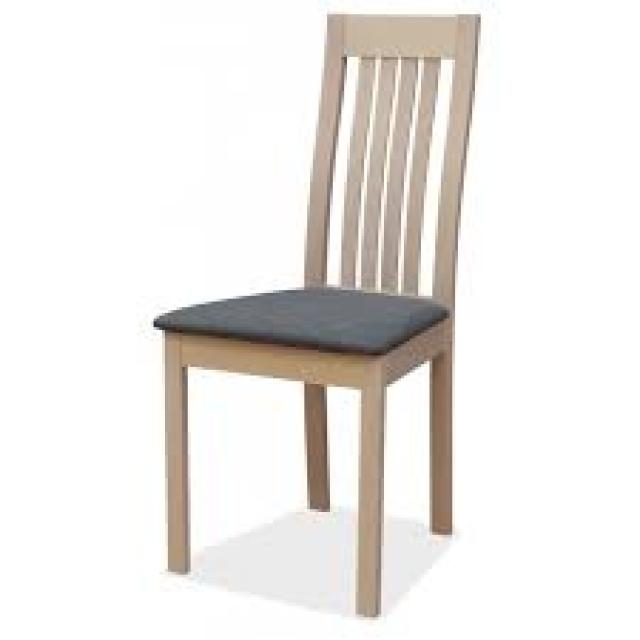bottle: (153, 15, 480, 603)
